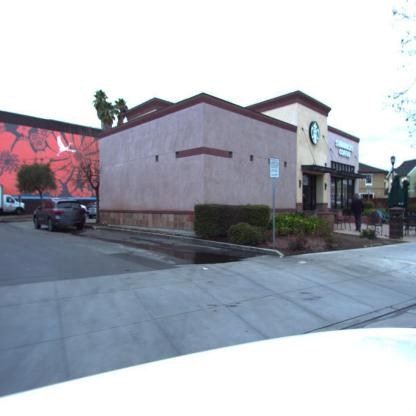car: (34, 201, 86, 233)
clock: (311, 121, 320, 144)
person: (352, 194, 364, 231)
truck: (1, 188, 25, 217)
